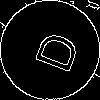D: (25, 25, 81, 75)
